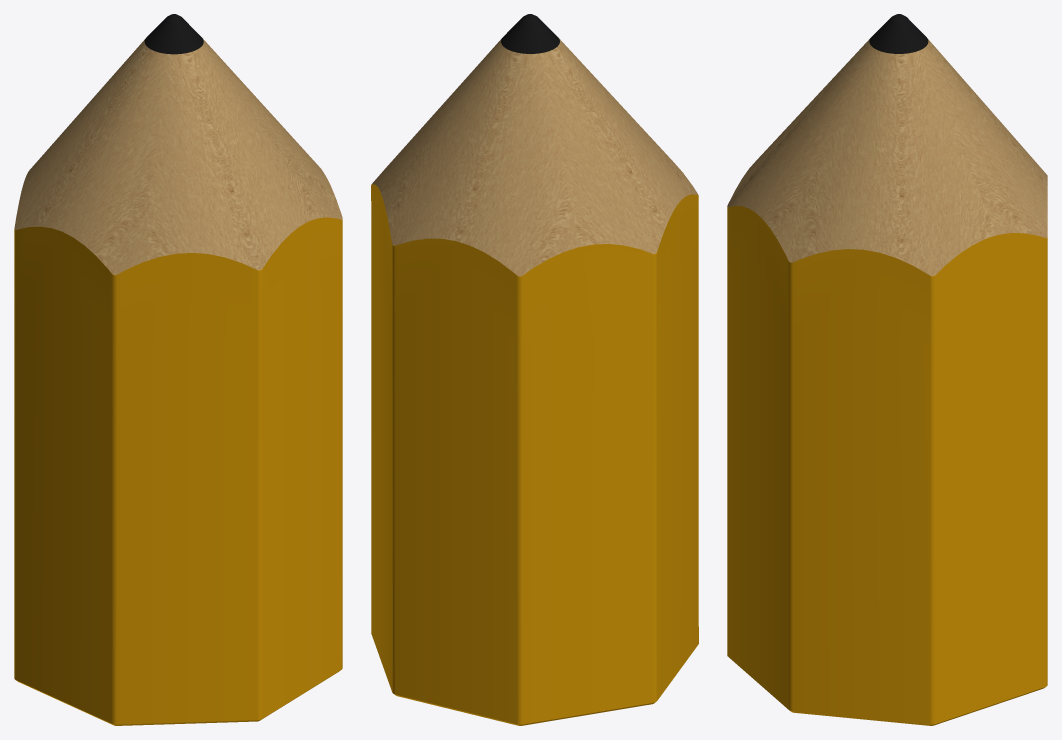
The model's file is pencil7.glb.
3 renders of one model, left to right at view 1: azimuth 30°, elevation 25°; view 2: azimuth 150°, elevation 25°; view 3: azimuth 270°, elevation 25°, orthographic.
Visible parts, largest first — view 1: Pencil; view 2: Pencil; view 3: Pencil.
Boxes of the visible parts, x1,y1,x2,y2 form: Pencil: (14, 14, 342, 725); Pencil: (371, 14, 698, 725); Pencil: (727, 14, 1047, 725).
Size of the model in its own units: 0.0293 by 0.0633 by 0.0286.
3 materials, 1 textured.
